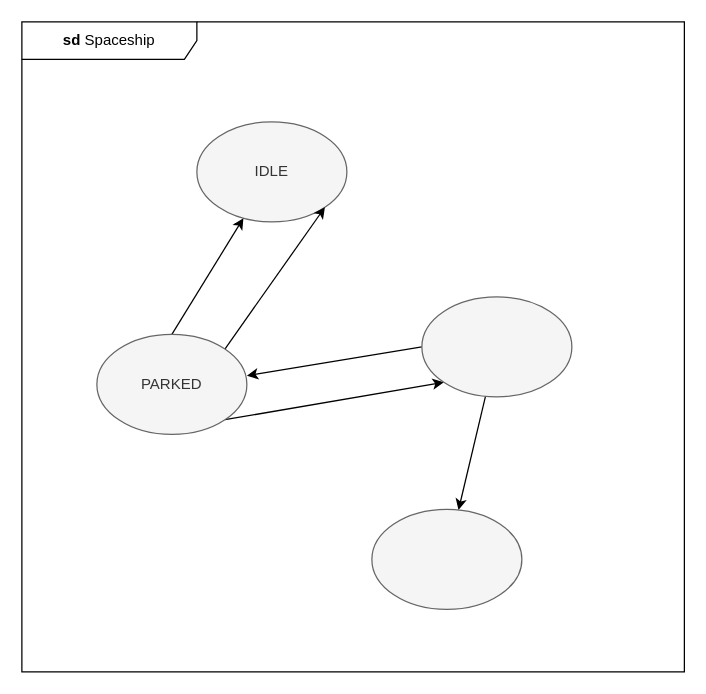
Image size: 706x694. Some labels were removed from this diagram. The centre of each missing label's shape, as x and y in pixels:
DESTROYED: [446,558]
RUN_FLY: [496,346]
